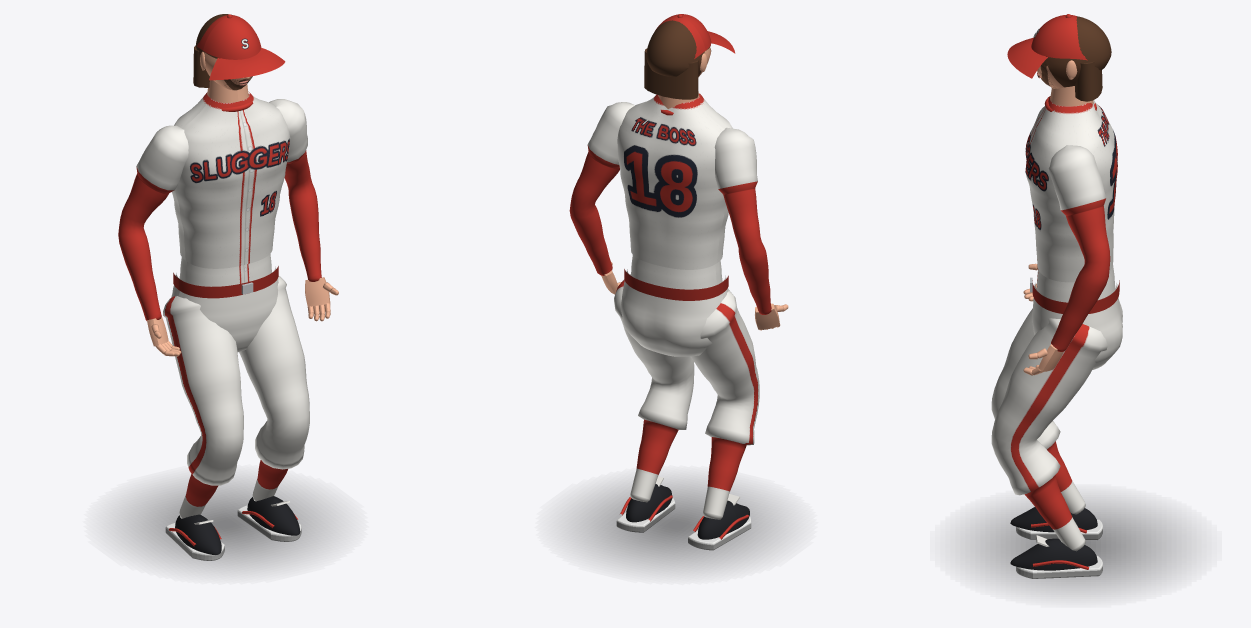
File: player_19_home.glb
The picture shows the model from 3 angles, left to right: view 1: azimuth 30°, elevation 25°; view 2: azimuth 150°, elevation 25°; view 3: azimuth 270°, elevation 25°; orthographic projection. The views are drawn at different scales.
Parts seen in each view (by area): view 1: player_19_home, object 31, object 33, object 2; view 2: player_19_home, object 29, object 30, object 31; view 3: player_19_home, object 31, object 29, object 33, object 35, object 30, object 2.
Boxes of the visible parts, x1,y1,x2,y2 form: player_19_home: (116,92,334,570); object 31: (197,15,261,59); object 33: (209,47,285,80); object 2: (207,80,248,102); player_19_home: (568,94,784,570); object 29: (646,20,710,76); object 30: (644,48,698,99); object 31: (654,14,711,58); player_19_home: (965,96,1186,592); object 31: (1031,14,1087,60); object 29: (1046,16,1111,70); object 33: (1007,37,1047,78); object 35: (1037,58,1099,88); object 30: (1075,61,1102,101); object 2: (1050,86,1093,106).
Bounding box in the file's own units: 3.23 × 5.98 × 3.23.
Materials: 27 (5 with a texture image).
